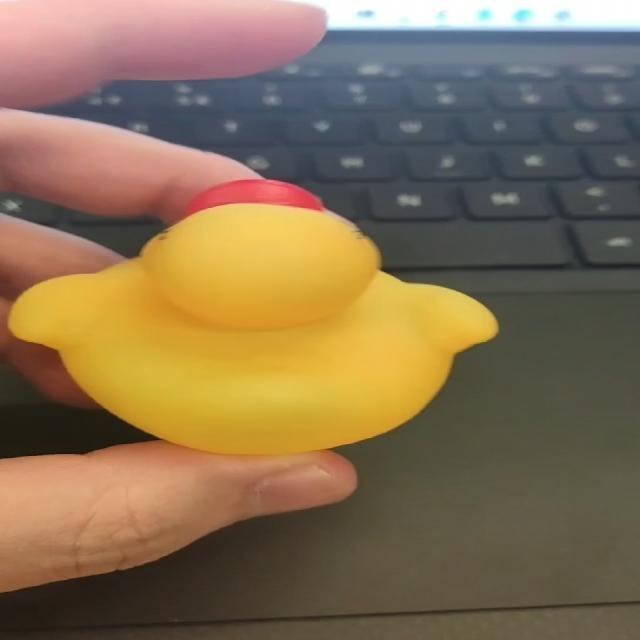rubber-duck: (8, 182, 496, 452)
